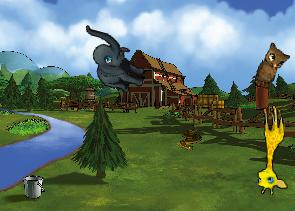elephant: (72, 24, 154, 96)
giraffe: (251, 104, 288, 195)
owl: (253, 41, 292, 93)
